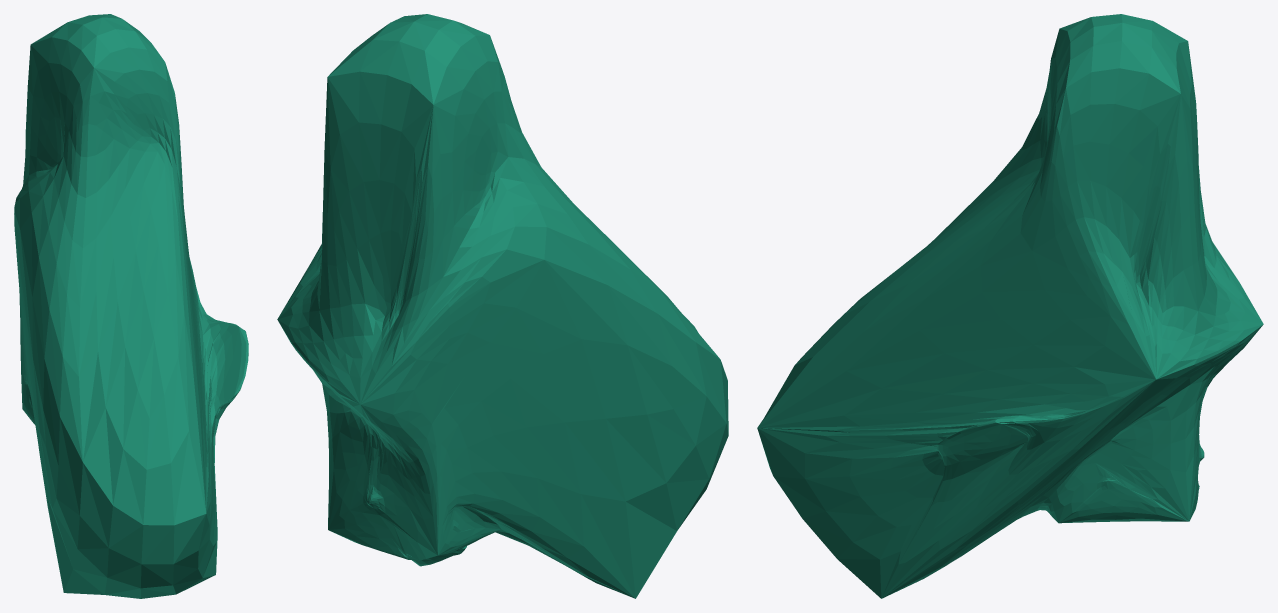
3 renders of one model, left to right at view 1: azimuth 30°, elevation 25°; view 2: azimuth 150°, elevation 25°; view 3: azimuth 270°, elevation 25°, orthographic. The views are drawn at different scales.
Parts seen in each view (by area): view 1: 229_Cube.940; view 2: 229_Cube.940; view 3: 229_Cube.940.
Boxes of the visible parts, box(x1,y1,x2,y2) form: 229_Cube.940: box(14, 14, 248, 598); 229_Cube.940: box(277, 14, 728, 598); 229_Cube.940: box(757, 14, 1263, 598).
Size of the model in its own units: 7.1 by 14.13 by 11.12.
